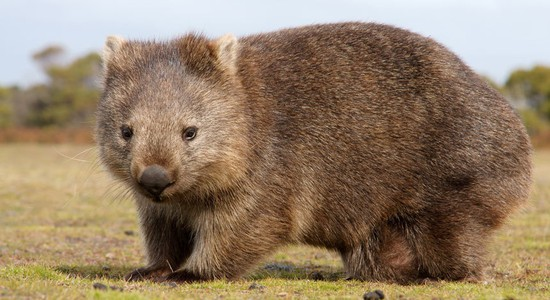Wombat: (93, 18, 533, 285)
